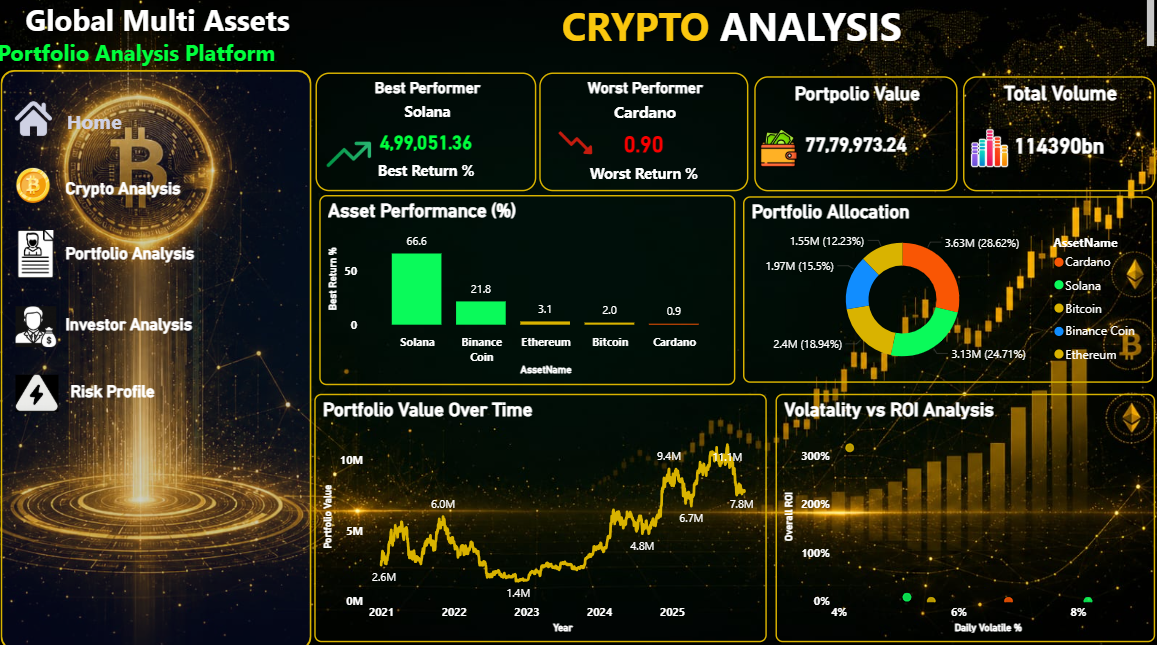

Layout of this report page (visuals, bound fields, positions):
{"tool":"powerbi","page":{"name":"Crypto Analysis ","canvas":[1280,720],"ordinal":2},"visuals":[{"type":"textbox","box":[0,0,370.4,115.8],"z":0},{"type":"image","box":[25.3,187,38.6,44.6],"z":0,"group":"g1"},{"type":"actionButton","title":"Portfolio Analysis","box":[80.8,273.9,159.3,24.1],"z":0,"group":"g2"},{"type":"actionButton","title":"Investor Analysis","box":[80.8,351.1,167.7,29],"z":0,"group":"g3"},{"type":"actionButton","title":"Risk Profile","box":[85.6,423.5,100.1,24.1],"z":0,"group":"g4"},{"type":"card","title":"Best Performer","fields":{"Values":["Measure.Best Return %"]},"box":[354,85.1,178.4,134.5],"z":1000,"group":"g5"},{"type":"image","box":[19.2,115.3,50.8,41.2],"z":1000},{"type":"actionButton","title":"Crypto Analysis","box":[80.8,201.5,127.9,29],"z":1000,"group":"g1"},{"type":"image","box":[25.3,258.2,44.6,53.1],"z":1000,"group":"g2"},{"type":"image","box":[25.3,331.8,44.6,63.9],"z":1000,"group":"g3"},{"type":"image","box":[25.3,409,47.1,56.7],"z":1000,"group":"g4"},{"type":"actionButton","box":[53.5,119.4,115.3,37],"z":2000},{"type":"shape","box":[8.4,83,341.4,637],"z":3000},{"type":"card","title":"Worst Performer","fields":{"Values":["Measure.Worst Return %"]},"box":[536.5,87.8,172.9,130.4],"z":3000,"group":"g5"},{"type":"group","id":"g1","title":"Group 1","box":[25.3,187,183.4,44.6],"z":4000},{"type":"card","title":"Portpolio Value","fields":{"Values":["Measure.Portfolio Value"]},"box":[714.9,87.8,189.4,127.6],"z":5000,"group":"g5"},{"type":"group","id":"g2","title":"Group 2","box":[25.3,258.2,214.7,53.1],"z":5000},{"type":"card","title":"Total Volume","fields":{"Values":["Measure.Total Crypto Volume"]},"box":[909.7,87.8,181.1,127.6],"z":6000,"group":"g5"},{"type":"group","id":"g3","title":"Group 4","box":[25.3,331.8,223.2,63.9],"z":6000},{"type":"group","id":"g4","title":"Group 5","box":[25.3,409,160.5,56.7],"z":7000},{"type":"textbox","box":[349.9,0,930.2,63.9],"z":8000},{"type":"image","box":[358.1,160.5,28.8,41.2],"z":9000},{"type":"image","box":[536.5,138.6,50.8,43.9],"z":10000},{"type":"image","box":[912.5,150.9,45.3,34.3],"z":11000},{"type":"image","box":[724.5,148.2,32.9,34.3],"z":12000},{"type":"image","box":[1122.5,149.6,38.4,37],"z":13000},{"type":"group","id":"g5","title":"Group 3","box":[354,85.1,922.1,134.5],"z":14000},{"type":"group","id":"g6","title":"Group 6","box":[354,223.7,916.6,241.5],"z":15000},{"type":"columnChart","title":"Asset Performance(%)","fields":{"Y":["Measure.Return %"],"Category":["Dim_Assets.AssetName"]},"box":[354,223.7,451.5,241.5],"z":15000,"group":"g6"},{"type":"donutChart","title":"Portfolio Allocation","fields":{"Category":["Dim_Assets.AssetName"],"Y":["Measure.Total Investment"]},"box":[812.3,225.1,458.3,238.8],"z":16000,"group":"g6"},{"type":"lineChart","fields":{"Category":["Dim_Date.Date.Variation.Date Hierarchy.Year","Dim_Date.Date.Variation.Date Hierarchy.Quarter","Dim_Date.Date.Variation.Date Hierarchy.Month","Dim_Date.Date.Variation.Date Hierarchy.Day"],"Y":["Measure.Portfolio Value"]},"box":[355.4,473.4,403.4,236],"z":16000,"group":"g7"},{"type":"card","title":"Total Crypto","fields":{"Values":["Measure.Total Crypto Assets"]},"box":[1095,87.8,181.1,127.6],"z":17000,"group":"g5"},{"type":"scatterChart","title":"Volatile vs ROI Analysis","fields":{"X":["Measure.Daily Volatile %"],"Y":["Measure.Overall ROI"],"Size":["CountNonNull(Dim_Assets.AssetName)"],"Series":["Dim_Assets.AssetName"]},"box":[765.7,472,506.3,236],"z":17000,"group":"g7"},{"type":"group","id":"g7","title":"Group 7","box":[355.4,472,916.6,237.4],"z":17001}]}

Visuals, with their boxes in screenshot pixels (x1, y1, x2, y2), scaled from the page's 1280x720 canvas onto the 1157x645 screenshot:
textbox: crop(0, 0, 335, 104)
image: crop(23, 168, 58, 207)
"Portfolio Analysis" actionButton: crop(73, 245, 217, 267)
"Investor Analysis" actionButton: crop(73, 315, 225, 341)
"Risk Profile" actionButton: crop(77, 379, 168, 401)
"Best Performer" card: crop(320, 76, 481, 197)
image: crop(17, 103, 63, 140)
"Crypto Analysis" actionButton: crop(73, 181, 189, 206)
image: crop(23, 231, 63, 279)
image: crop(23, 297, 63, 354)
image: crop(23, 366, 65, 417)
actionButton: crop(48, 107, 153, 140)
shape: crop(8, 74, 316, 644)
"Worst Performer" card: crop(485, 79, 641, 195)
"Group 1" group: crop(23, 168, 189, 207)
"Portpolio Value" card: crop(646, 79, 817, 193)
"Group 2" group: crop(23, 231, 217, 279)
"Total Volume" card: crop(822, 79, 986, 193)
"Group 4" group: crop(23, 297, 225, 354)
"Group 5" group: crop(23, 366, 168, 417)
textbox: crop(316, 0, 1156, 57)
image: crop(324, 144, 350, 181)
image: crop(485, 124, 531, 163)
image: crop(825, 135, 866, 166)
image: crop(655, 133, 685, 163)
image: crop(1015, 134, 1049, 167)
"Group 3" group: crop(320, 76, 1153, 197)
"Group 6" group: crop(320, 200, 1149, 417)
"Asset Performance(%)" columnChart: crop(320, 200, 728, 417)
"Portfolio Allocation" donutChart: crop(734, 202, 1149, 416)
lineChart - Dim_Date.Date.Variation.Date Hierarchy.Year x Dim_Date.Date.Variation.Date Hierarchy.Quarter: crop(321, 424, 686, 636)
"Total Crypto" card: crop(990, 79, 1153, 193)
"Volatile vs ROI Analysis" scatterChart: crop(692, 423, 1150, 634)
"Group 7" group: crop(321, 423, 1150, 636)
